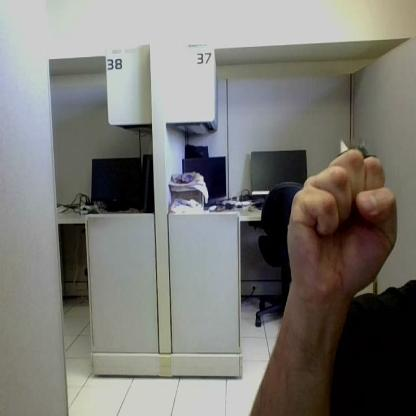S: (287, 150, 396, 293)
